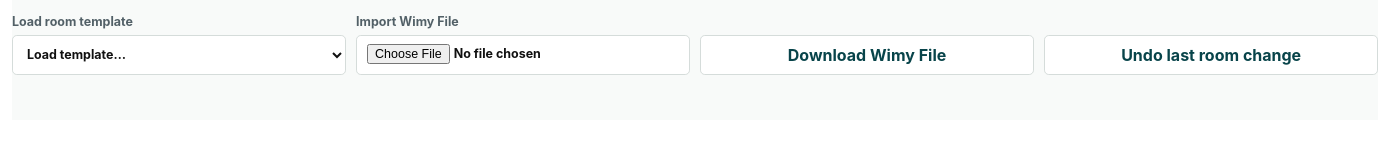
Test: FileAndTemplateControls › submits a fresh one-step undo request through the transaction seam
expect the button "Undo last room change" is disabled: met, box [1044, 35, 1378, 75]
Select "Blank Room" in the dropdown labelled "Load room template" at (179, 55), box [12, 35, 346, 75]
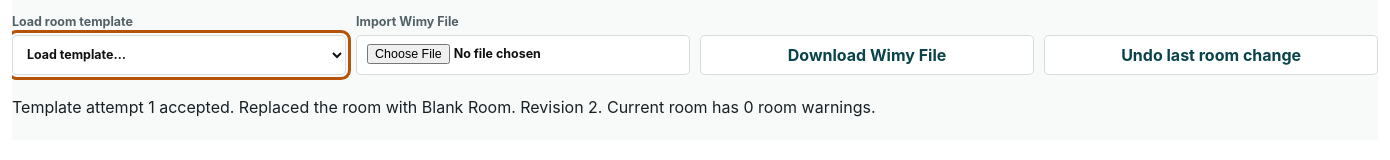
Click the button "Undo last room change" at (1211, 55), box [1044, 35, 1378, 75]
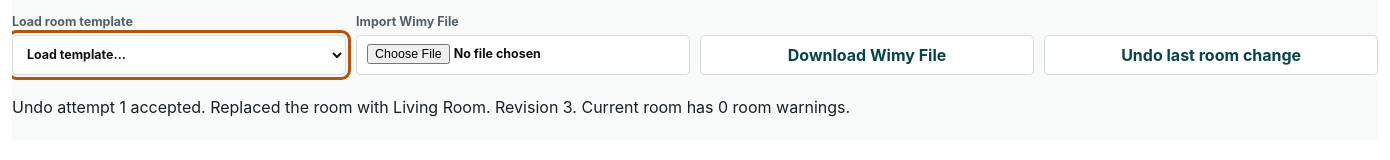
expect the message shows "Current room has 0 room warnings.": met, box [12, 97, 850, 117]
expect the message shows "Undo attempt 1 accepted": met, box [12, 97, 850, 117]
